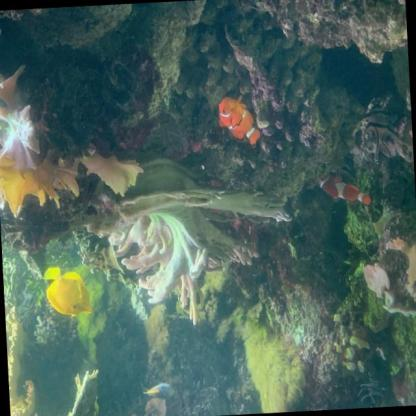fish: (42, 264, 94, 320), (215, 92, 263, 148), (316, 169, 373, 209), (140, 378, 177, 403)
